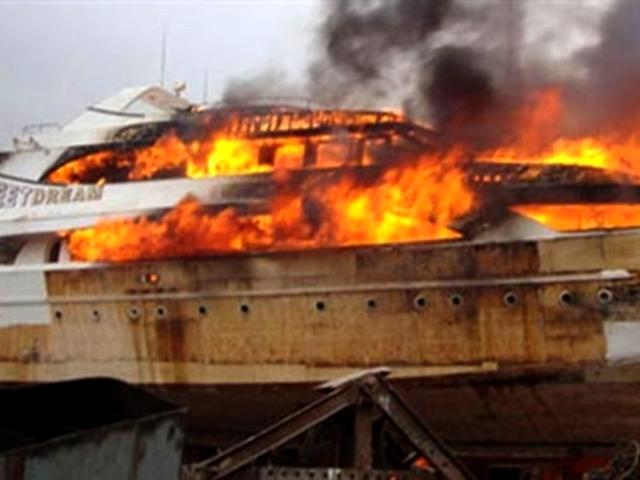fire: (41, 85, 638, 269)
